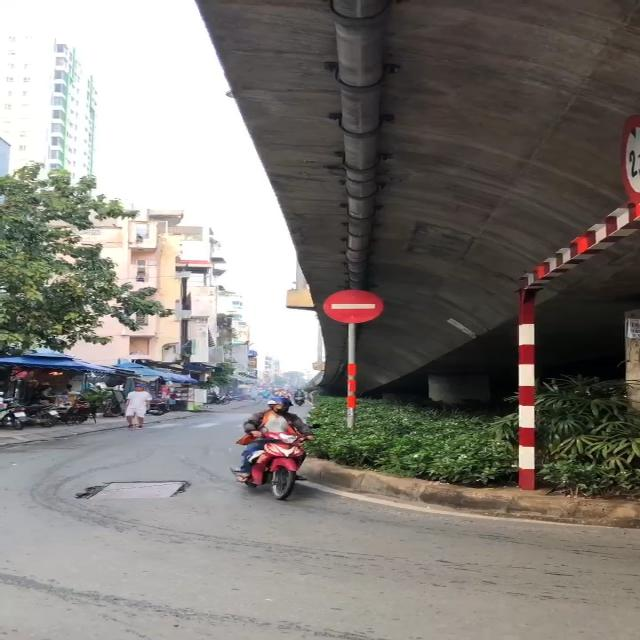Bien bao cam di nguoc chieu: (321, 286, 389, 326)
